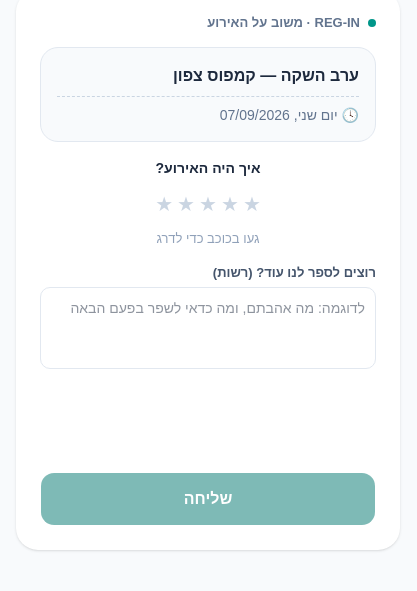
PublicFeedbackPage — הגשה › הגשה מוצלחת שולחת token+score+notes, ומעבירה למסך-התודה
This screenshot has width=417, height=591.
Step 1. Click the 2nd button "★" → (186, 204), box [177, 194, 195, 214]
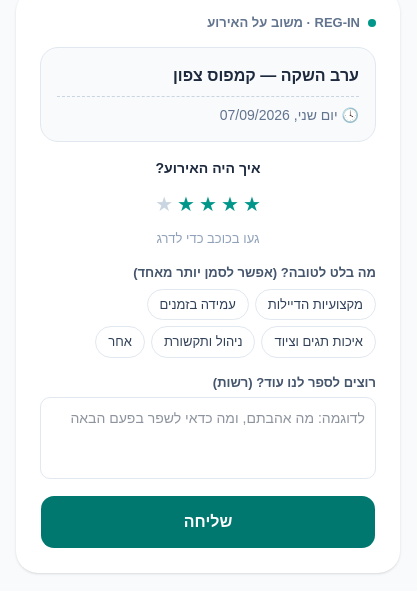
Step 2. Type "היה נהדר" into the text box labelled "רוצים לספר לנו עוד? (רשות)" → (208, 438), box [40, 397, 376, 479]
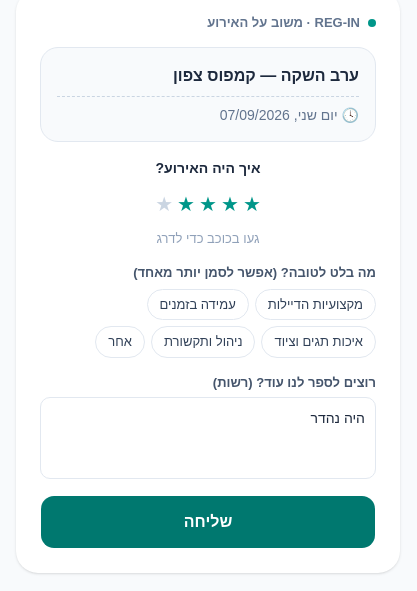
Step 3. Click the button with test id "feedback-submit" → (208, 522), box [40, 495, 376, 549]
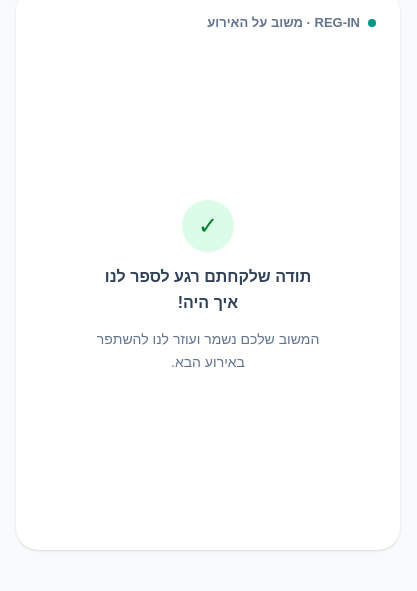
expect the text "תודה שלקחתם רגע לספר לנו איך היה!" is shown: met, box [93, 264, 323, 316]
